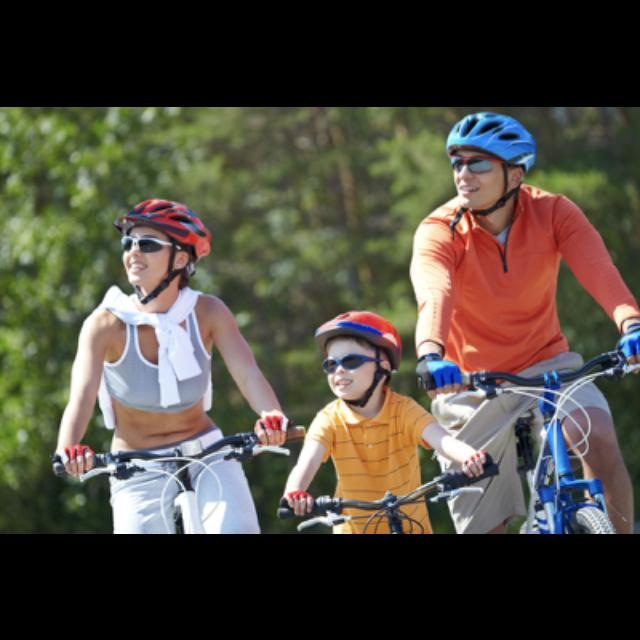With Helmet: (113, 189, 214, 295), (442, 112, 546, 210), (308, 306, 402, 406)
